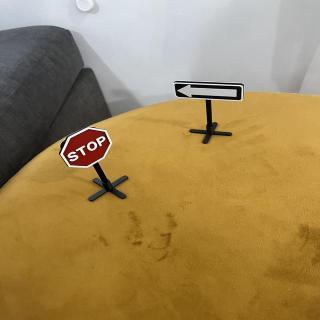sign_oneway_left: (173, 81, 246, 104)
sign_stop: (60, 124, 114, 171)
